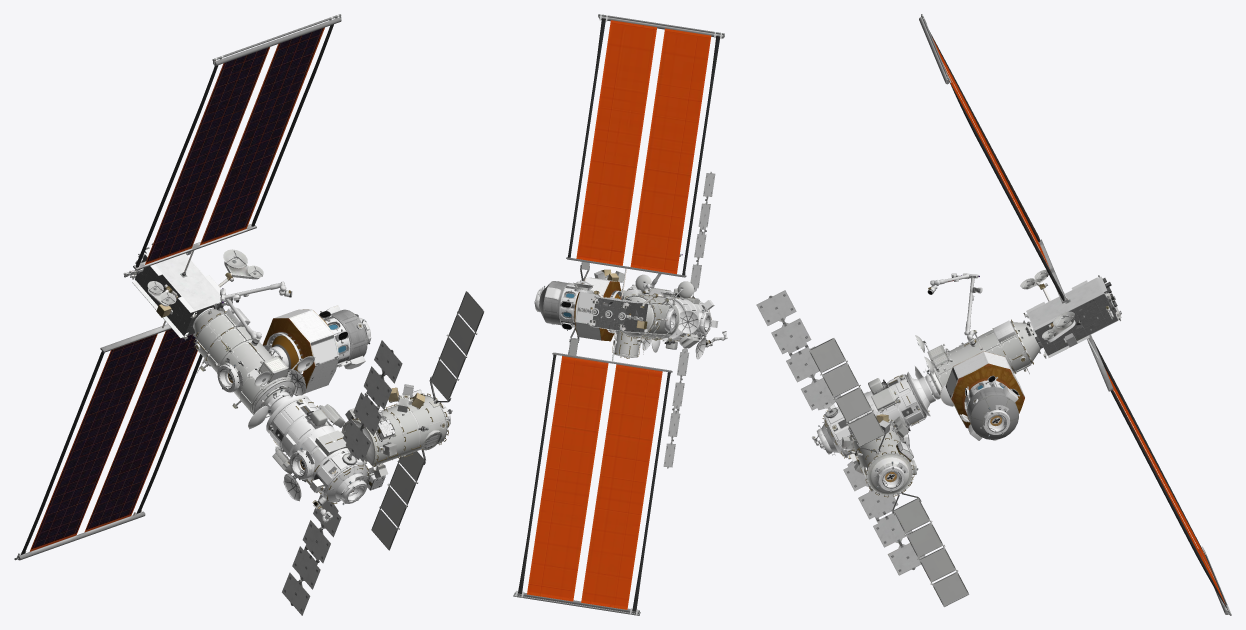
Rendered from gateway-core.meshopt.glb.
3 renders of one model, left to right at view 1: azimuth 30°, elevation 25°; view 2: azimuth 150°, elevation 25°; view 3: azimuth 270°, elevation 25°, orthographic. The views are drawn at different scales.
Visible parts, largest first — view 1: Maxar_PPE Array, I-Hab, Airlock, NG_HALO.001, ERMXL_LoRes, Maxar_PPE.001, NDS port active hatch.006, NDS port active hatch.007, Big Arm_1; view 2: Maxar_PPE Array, I-Hab, ERMXL_LoRes, Maxar_PPE.001, NG_HALO.001, Airlock, NDS port active hatch.006, NDS port active hatch.007; view 3: Airlock, I-Hab, Maxar_PPE Array, Maxar_PPE.001, ERMXL_LoRes, NG_HALO.001, NDS port active hatch.006, NDS port active hatch.007, Big Arm_1.
Boxes of the visible parts, x1,y1,x2,y2 form: Maxar_PPE Array: (14, 14, 341, 560); I-Hab: (266, 340, 402, 615); Airlock: (341, 291, 484, 550); NG_HALO.001: (193, 307, 315, 417); ERMXL_LoRes: (262, 305, 367, 393); Maxar_PPE.001: (123, 243, 263, 340); NDS port active hatch.006: (248, 396, 450, 504); NDS port active hatch.007: (217, 314, 371, 414); Big Arm_1: (220, 281, 332, 522); Maxar_PPE Array: (513, 14, 724, 615); I-Hab: (662, 172, 718, 468); ERMXL_LoRes: (539, 277, 624, 341); Maxar_PPE.001: (573, 281, 675, 333); NG_HALO.001: (620, 274, 693, 354); Airlock: (568, 262, 650, 358); NDS port active hatch.006: (642, 307, 711, 359); NDS port active hatch.007: (534, 286, 677, 332); Airlock: (809, 338, 969, 607); I-Hab: (756, 290, 930, 575); Maxar_PPE Array: (919, 14, 1231, 615); Maxar_PPE.001: (1020, 269, 1121, 358); ERMXL_LoRes: (945, 351, 1024, 440); NG_HALO.001: (915, 319, 1040, 396); NDS port active hatch.006: (816, 366, 935, 491); NDS port active hatch.007: (925, 342, 1010, 436); Big Arm_1: (811, 273, 982, 448).
Bounding box in the file's own units: 17.88 × 38.97 × 30.07.
13 materials, 13 textured.
